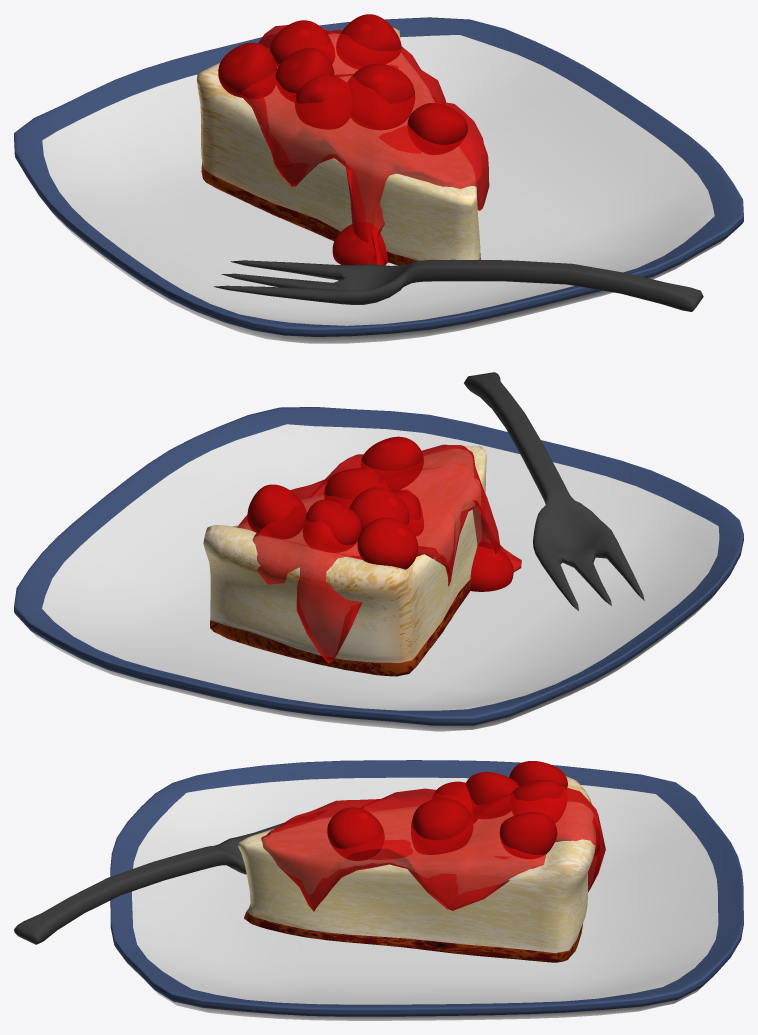
File: cheesecake.fbx
3 views of the same model, one above another, from view 1: azimuth 30°, elevation 25°; view 2: azimuth 150°, elevation 25°; view 3: azimuth 270°, elevation 25° (orthographic). The views are drawn at different scales.
Parts seen in each view (by area): view 1: pCube3, pCube1, pCube2, polySurface8, pCube4; view 2: pCube3, pCube1, pCube2, polySurface8, pCube4; view 3: pCube3, pCube1, pCube2, polySurface8, pCube4.
Boxes of the visible parts, bbox=[...] form: pCube3: bbox=[14, 17, 743, 343]; pCube1: bbox=[196, 27, 480, 265]; pCube2: bbox=[240, 25, 489, 265]; polySurface8: bbox=[218, 14, 467, 264]; pCube4: bbox=[213, 259, 703, 311]; pCube3: bbox=[14, 407, 743, 731]; pCube1: bbox=[203, 446, 486, 676]; pCube2: bbox=[237, 444, 521, 663]; polySurface8: bbox=[247, 436, 513, 591]; pCube4: bbox=[464, 372, 644, 610]; pCube3: bbox=[110, 760, 743, 1020]; pCube1: bbox=[238, 776, 595, 962]; pCube2: bbox=[261, 786, 605, 911]; polySurface8: bbox=[327, 761, 567, 860]; pCube4: bbox=[14, 823, 283, 944].
Size of the model in its own units: 9.21 by 2.58 by 11.23.
